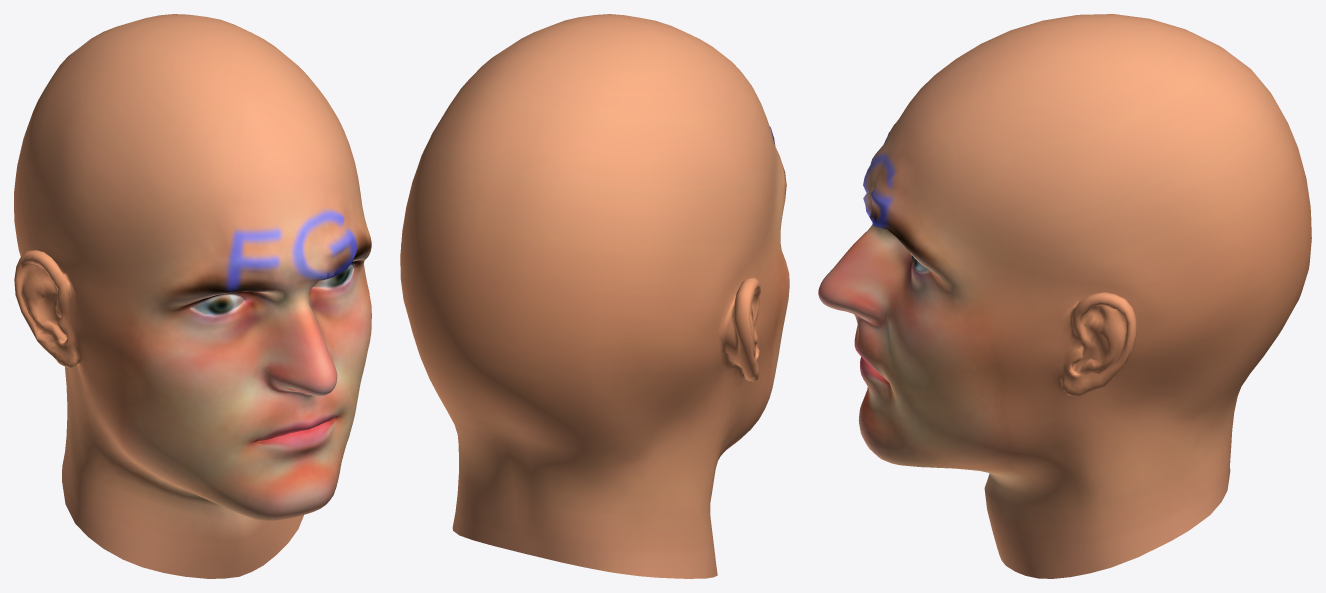
The model's file is avg_anyrace_male_06.obj.
3 views of the same model, side by side, from view 1: azimuth 30°, elevation 25°; view 2: azimuth 150°, elevation 25°; view 3: azimuth 270°, elevation 25° (orthographic). The views are drawn at different scales.
Visible parts, largest first — view 1: HeadHires; view 2: HeadHires; view 3: HeadHires.
Part boxes in pixels (bbox=[...]): HeadHires: bbox=[14, 14, 371, 578]; HeadHires: bbox=[400, 14, 789, 578]; HeadHires: bbox=[818, 14, 1311, 578].
Size of the model in its own units: 187 by 282 by 240.
3 materials, 3 textured.
